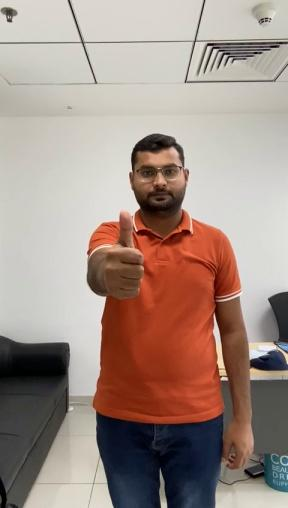thumbs-up: (93, 210, 156, 300)
